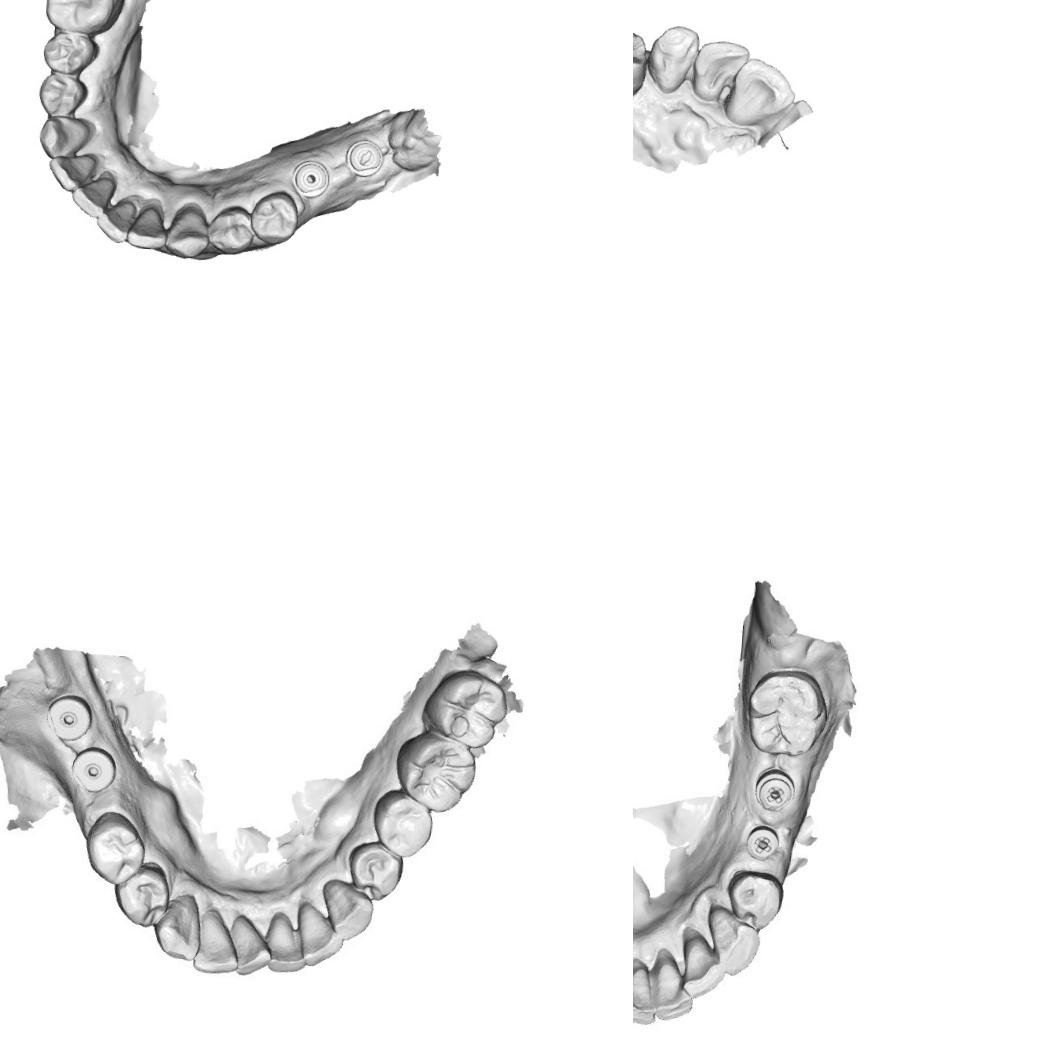canine: (700, 899, 763, 979), (642, 20, 702, 97), (150, 887, 204, 961), (318, 874, 374, 940), (164, 200, 212, 260), (36, 111, 92, 160)
implant: (42, 687, 95, 746), (66, 742, 116, 798), (289, 155, 332, 201)
implant_minus: (342, 136, 386, 180)
implant_plus: (753, 764, 801, 815), (740, 819, 784, 866)
incisor: (720, 53, 799, 130), (690, 36, 752, 104), (651, 948, 696, 1024), (296, 903, 345, 965), (679, 932, 724, 998), (226, 914, 274, 975), (192, 907, 233, 971), (124, 198, 170, 252), (68, 171, 118, 219), (45, 149, 98, 194), (264, 911, 304, 970), (93, 195, 138, 245), (633, 958, 656, 1025)
molar: (741, 668, 829, 760), (396, 732, 477, 808), (436, 672, 503, 746), (42, 0, 127, 37)
premolar: (344, 838, 406, 904), (729, 868, 789, 931), (378, 795, 434, 857), (89, 818, 141, 884), (247, 187, 302, 246), (116, 863, 167, 922), (40, 28, 100, 77), (36, 70, 90, 121), (206, 202, 255, 256), (633, 21, 651, 102)
